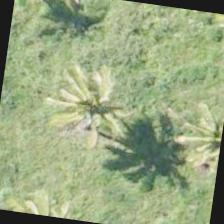Kelapa_Sawit: (46, 56, 148, 158), (159, 76, 223, 174)
